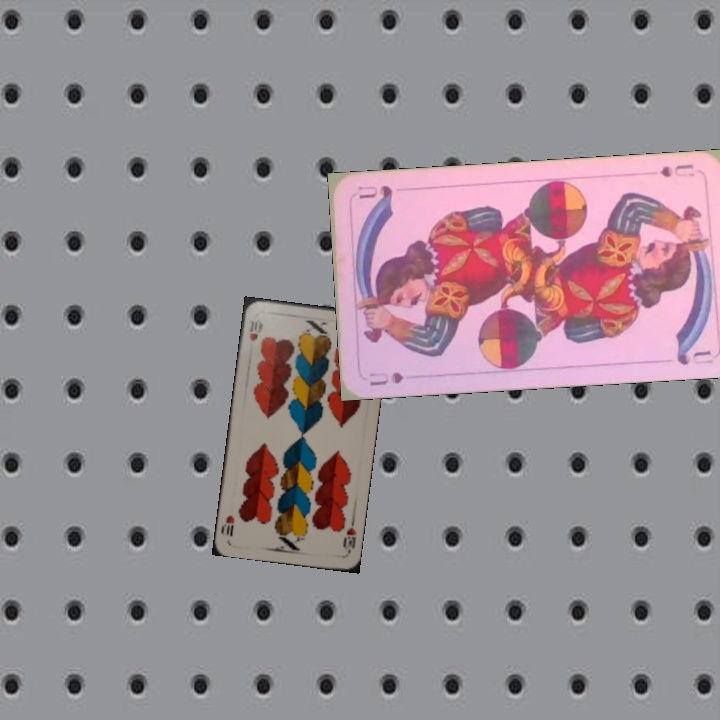H10: (339, 523, 359, 556), (245, 315, 264, 344)
SU: (365, 368, 407, 389), (655, 160, 697, 180)
